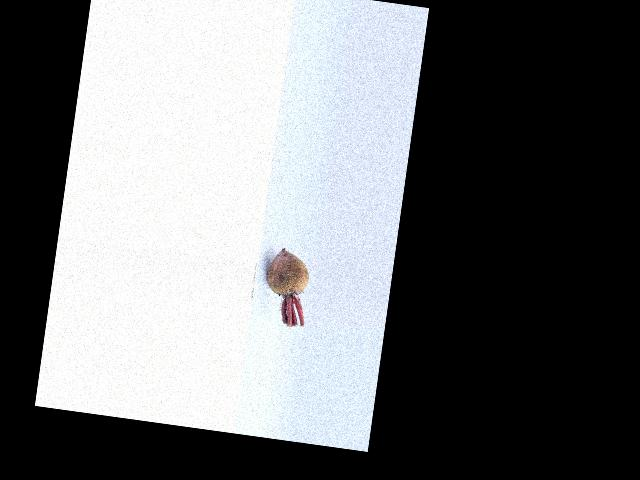beet: (260, 247, 313, 327)
